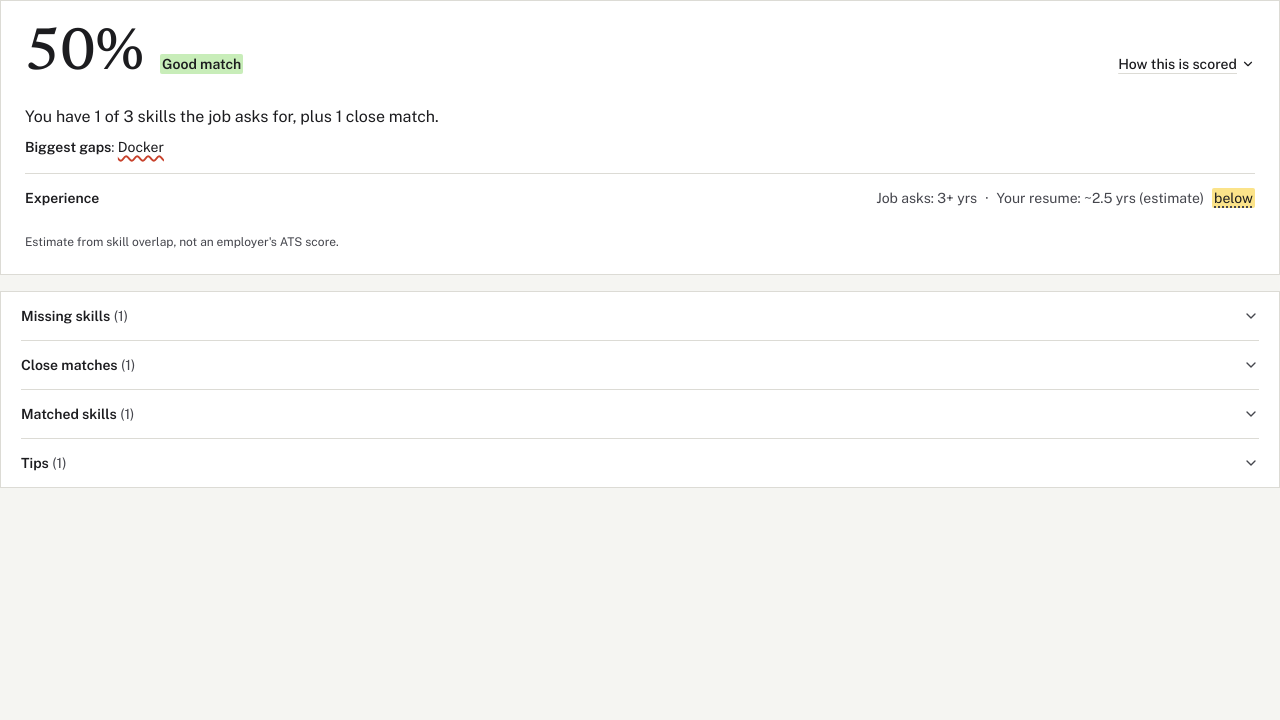
Test: matched skills are not toggleable
The width and height of the screenshot is (1280, 720).
Click the button "Matched skills (1)" at [69, 414], box [21,390,1259,438]
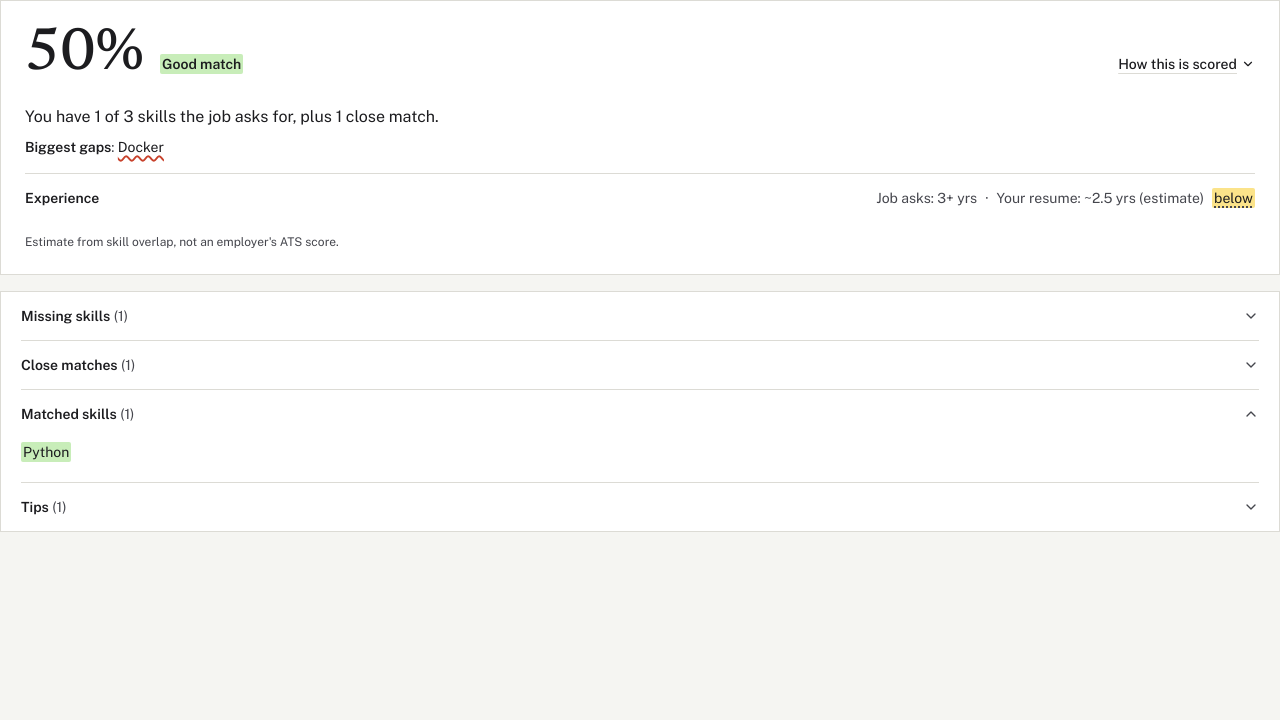
expect the text "Python" is shown: met, box [21,442,71,462]
